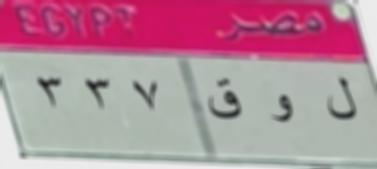3: (30, 72, 74, 116), (82, 70, 118, 114)
7: (130, 74, 168, 117)
laam: (322, 72, 360, 126)
qaaf: (205, 74, 248, 129)
waw: (269, 92, 297, 133)
